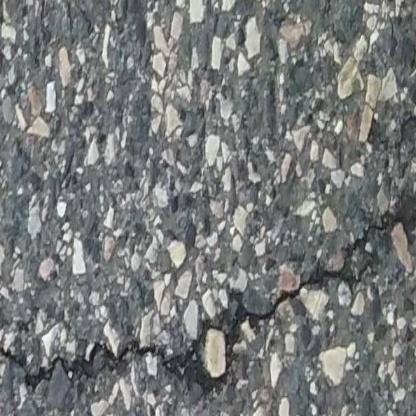Cracks: (0, 187, 416, 399)
